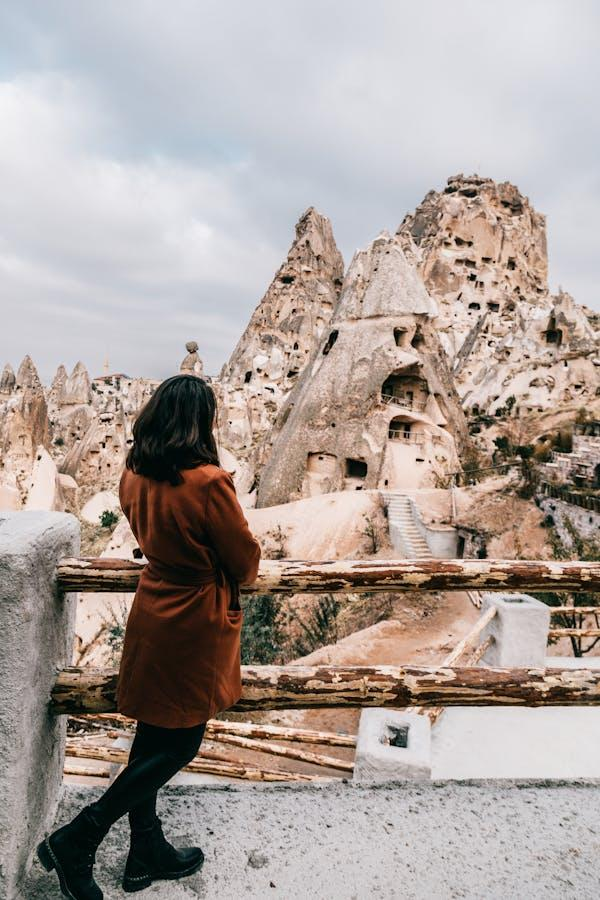Human: (53, 343, 268, 900)
